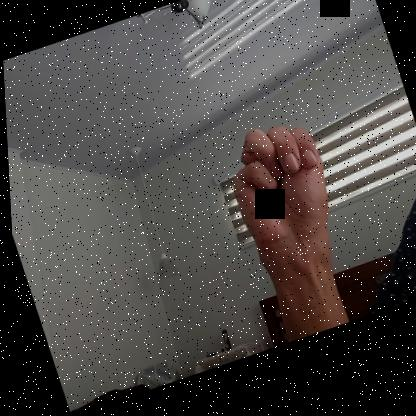M: (211, 113, 343, 267)
